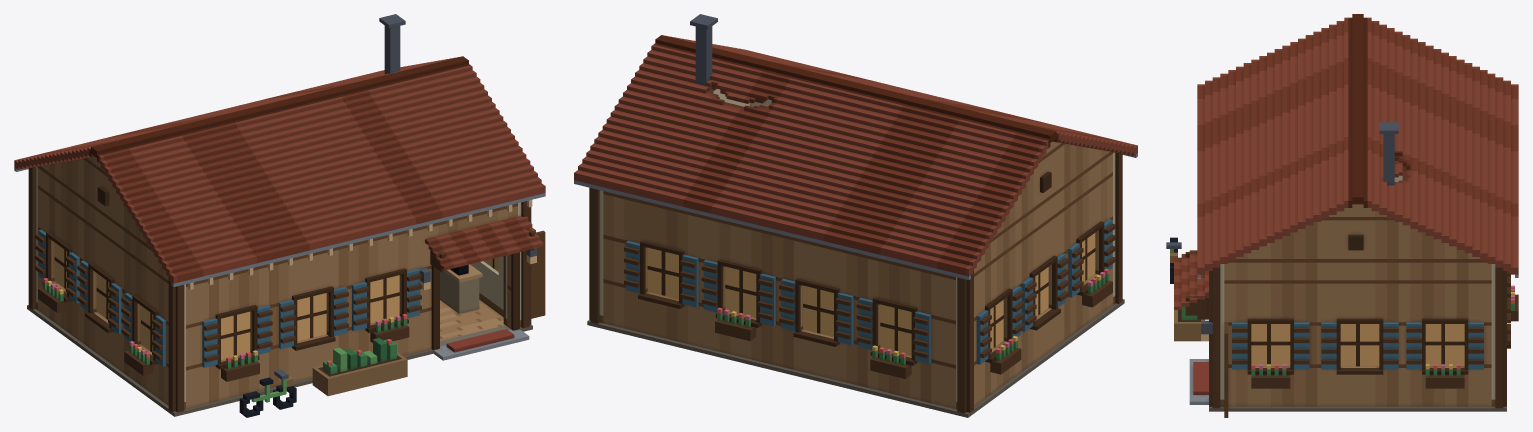
Rendered from control_e1_l1.glb.
3 renders of one model, left to right at view 1: azimuth 30°, elevation 25°; view 2: azimuth 150°, elevation 25°; view 3: azimuth 270°, elevation 25°, orthographic. The views are drawn at different scales.
Visible parts, largest first — view 1: CutRoof, CutPZ, Base, CutNX, CutNZ, CutPX; view 2: CutRoof, CutNZ, Base, CutNX, CutPZ; view 3: CutRoof, CutPX, Base, CutPZ, CutNZ.
Boxes of the visible parts, x1,y1,x2,y2 form: CutRoof: [14, 14, 545, 289]; CutPZ: [168, 201, 545, 381]; Base: [27, 263, 545, 417]; CutNX: [35, 168, 168, 374]; CutNZ: [28, 166, 37, 278]; CutPX: [473, 256, 503, 285]; CutRoof: [574, 14, 1137, 279]; CutNZ: [589, 187, 973, 379]; Base: [587, 268, 1124, 417]; CutNX: [974, 153, 1115, 372]; CutPZ: [750, 99, 1122, 271]; CutRoof: [1197, 14, 1518, 278]; CutPX: [1224, 262, 1491, 381]; Base: [1166, 237, 1518, 417]; CutPZ: [1174, 250, 1228, 386]; CutNZ: [1491, 264, 1518, 376].
Bounding box in the file's own units: 11.7 × 7.4 × 9.1.
